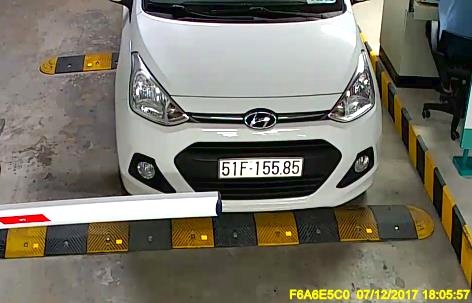plate: (217, 154, 304, 179)
